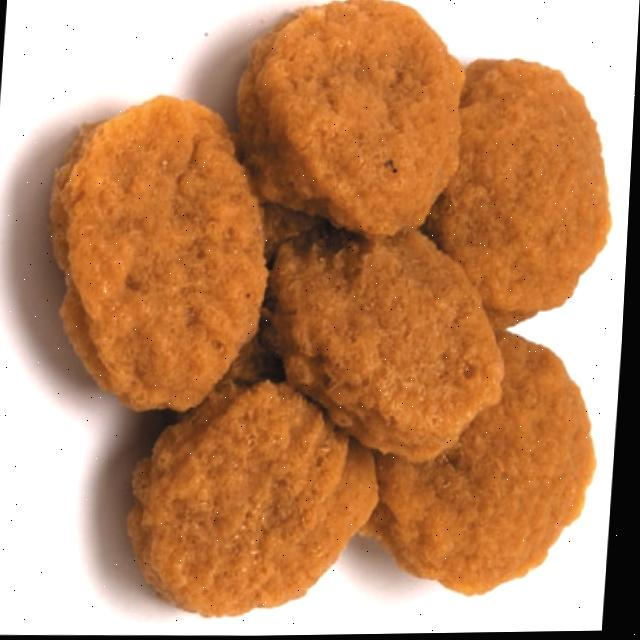鸡肉料理 含炸鸡: (0, 0, 640, 636)
